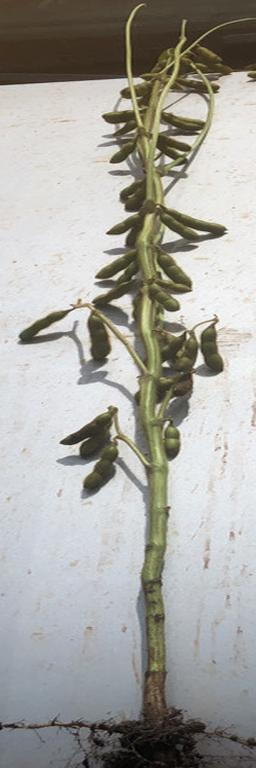pod: (18, 301, 70, 349), (83, 311, 114, 371), (80, 448, 119, 495), (197, 319, 226, 374), (160, 110, 206, 132), (108, 140, 138, 166), (165, 421, 182, 460)
soy: (16, 36, 245, 715)
